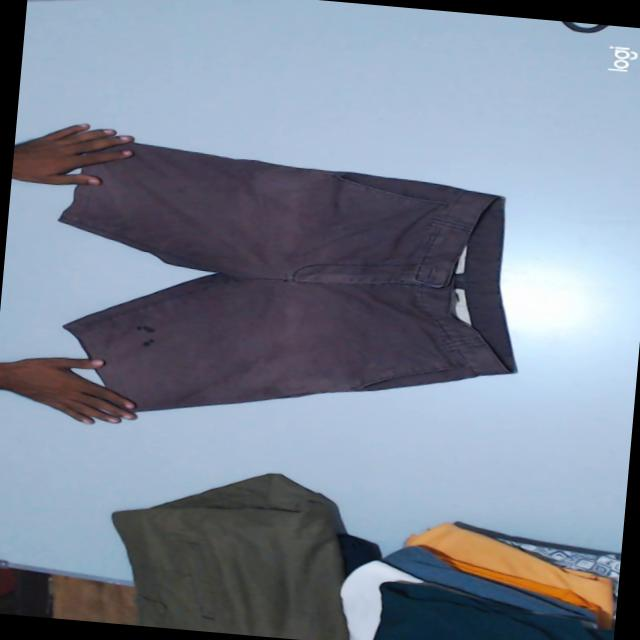new-garment: (59, 142, 514, 409)
